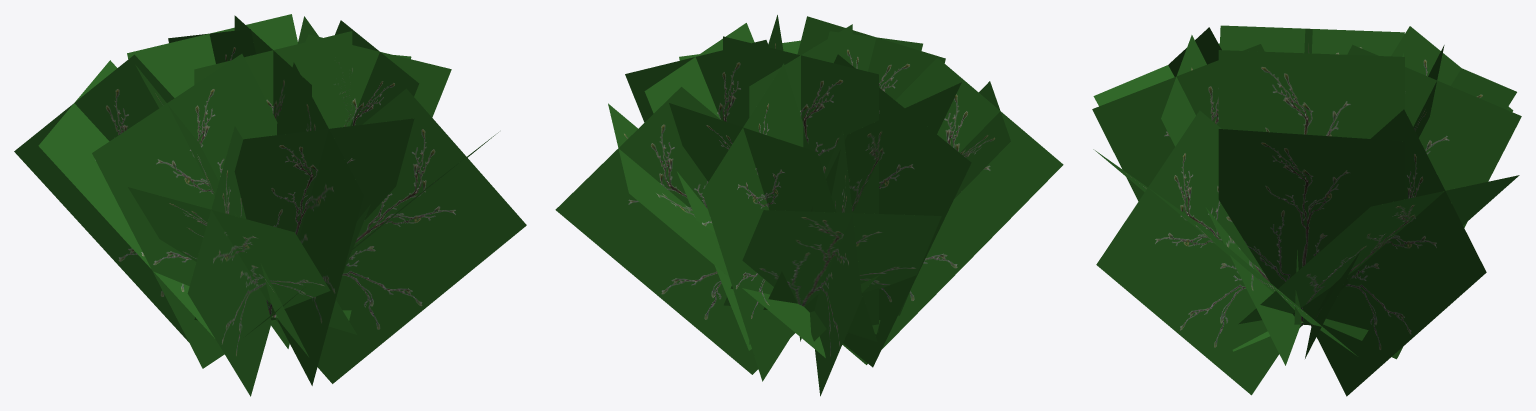
The model's file is bush3.FBX.
3 views of the same model, side by side, from view 1: azimuth 30°, elevation 25°; view 2: azimuth 150°, elevation 25°; view 3: azimuth 270°, elevation 25° (orthographic). The views are drawn at different scales.
Parts seen in each view (by area): view 1: bush3; view 2: bush3; view 3: bush3.
Part boxes in pixels (<box>): bush3: <box>14,14,526,396</box>; bush3: <box>555,15,1063,396</box>; bush3: <box>1092,25,1521,396</box>.
Bounding box in the file's own units: 6.82 × 5.8 × 6.76.
